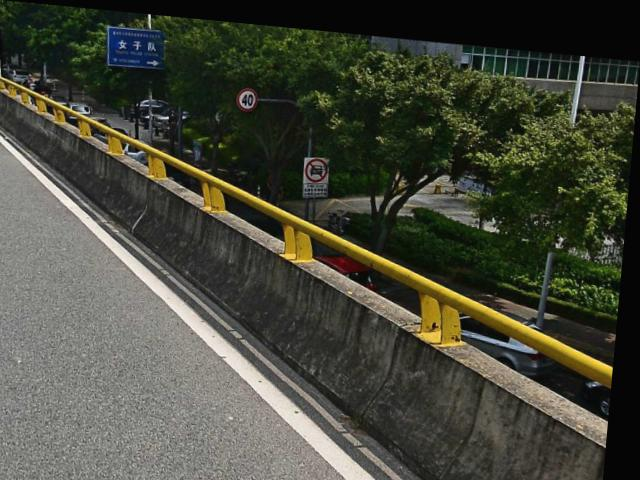limit40: (236, 81, 261, 107)
